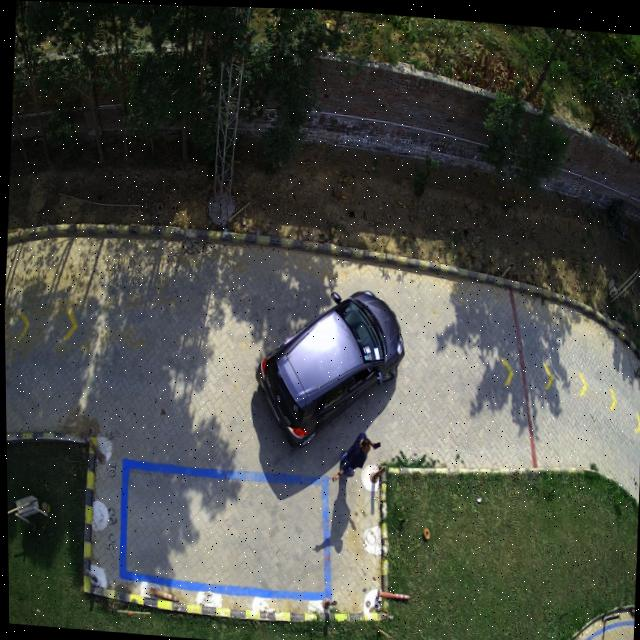car: (254, 289, 403, 445)
